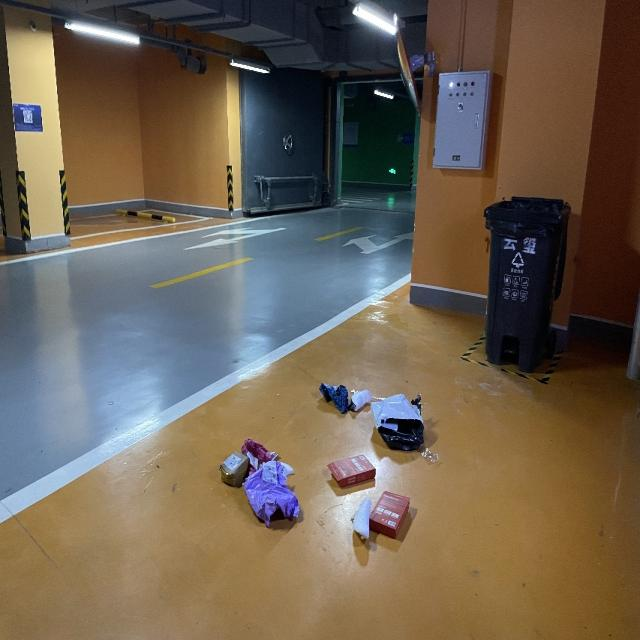garbage: (217, 382, 440, 541)
garbage_bin: (482, 189, 570, 372)
